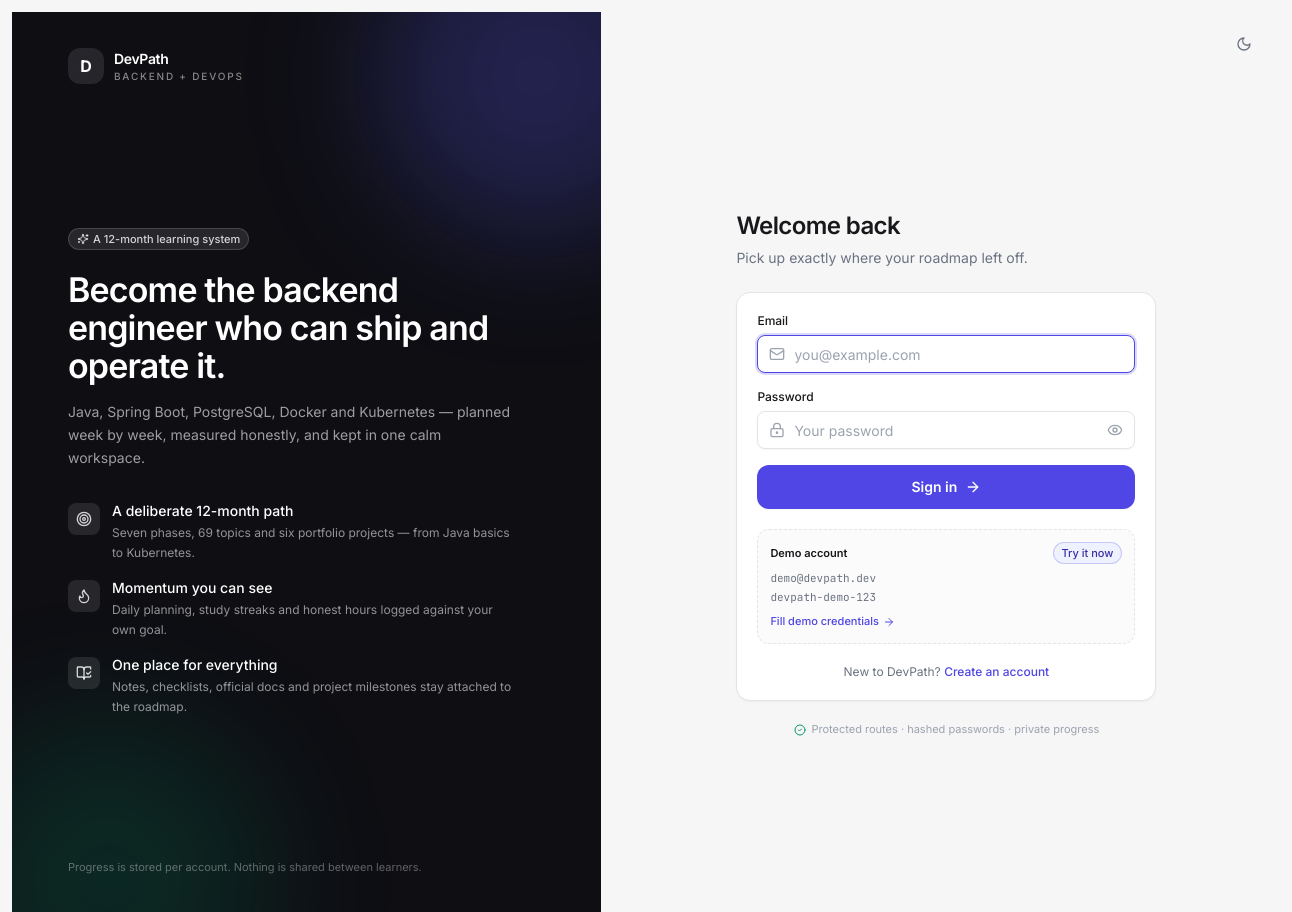
Scenario: LoginPage › fills the demo account and signs in
The width and height of the screenshot is (1292, 912).
Click the button "Fill demo credentials": (833, 622) left=770, top=613, right=895, bottom=630
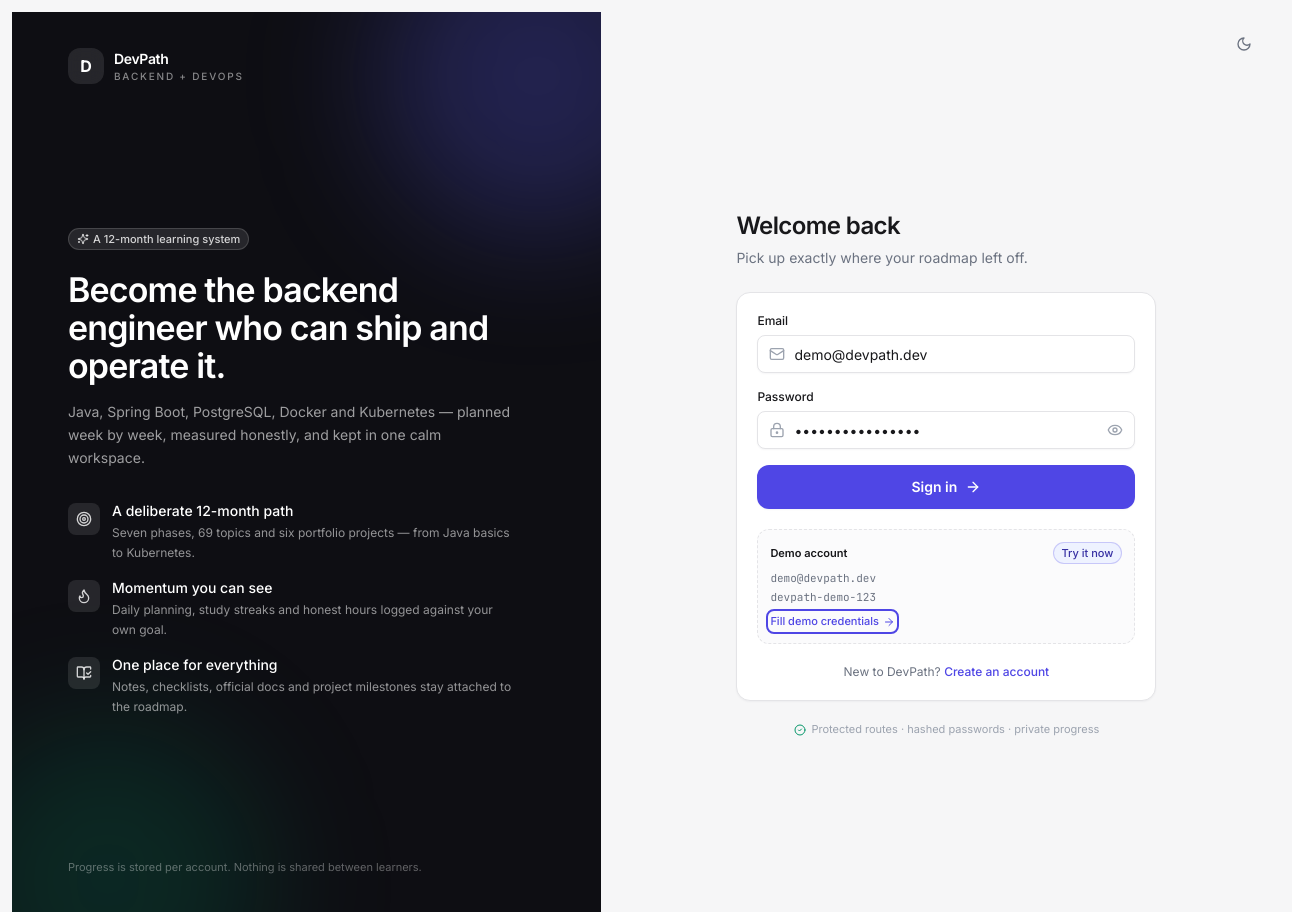
Check: the field labelled "Email" holds "demo@devpath.dev", box left=757, top=335, right=1135, bottom=373
Check: the password field labelled "Password" holds "devpath-demo-123", box left=757, top=411, right=1135, bottom=449
Click the button "Sign in": (946, 487) left=757, top=465, right=1135, bottom=509
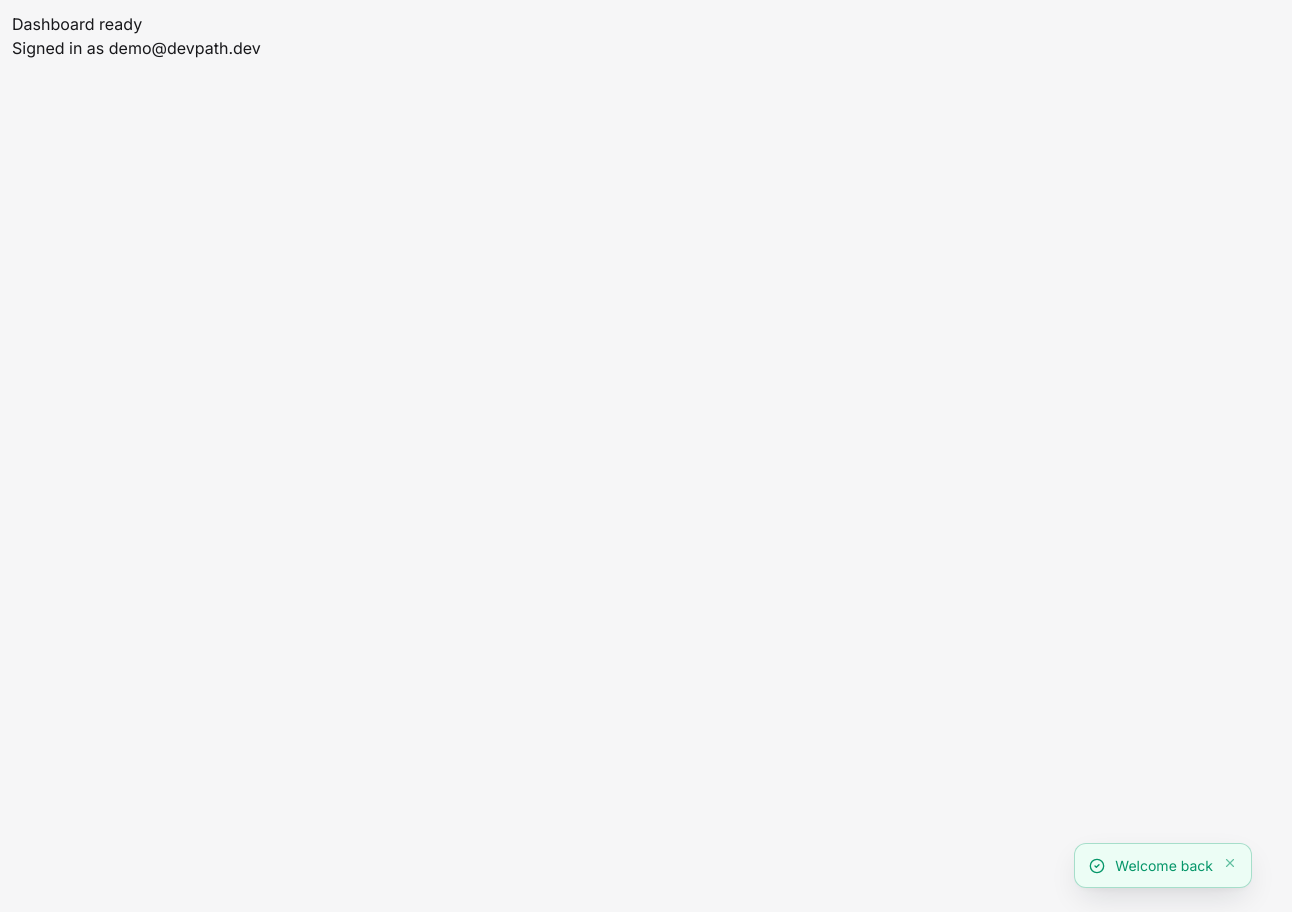
Check: the text "Dashboard ready" is shown, box left=12, top=14, right=142, bottom=34
